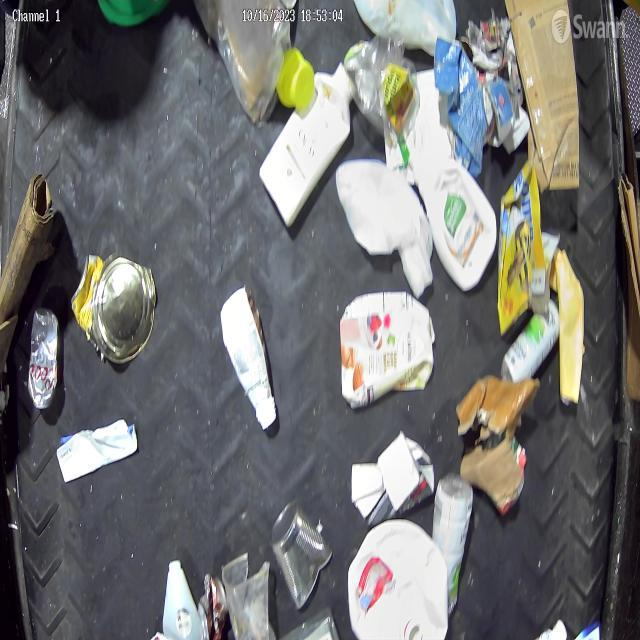can: (71, 253, 157, 364), (272, 502, 334, 610), (198, 575, 228, 640)
milk_jug: (336, 162, 434, 298), (407, 146, 497, 292), (348, 517, 450, 640), (354, 0, 456, 47)
plastic_bottle: (28, 308, 58, 411)
